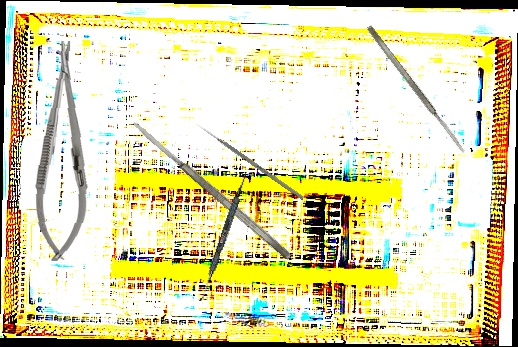Needle Holder: (32, 40, 94, 262)
Pusher: (194, 121, 305, 201)
Spatula Surgical: (129, 117, 294, 262), (365, 24, 468, 156), (198, 170, 249, 304)
